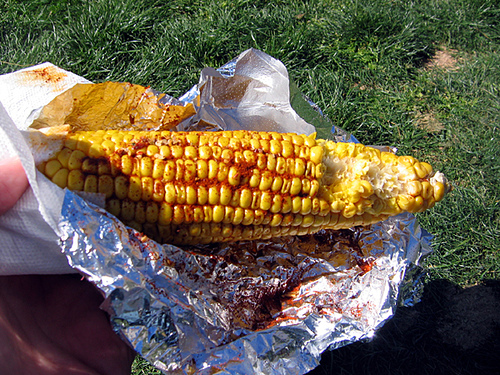corn: (32, 130, 450, 241)
